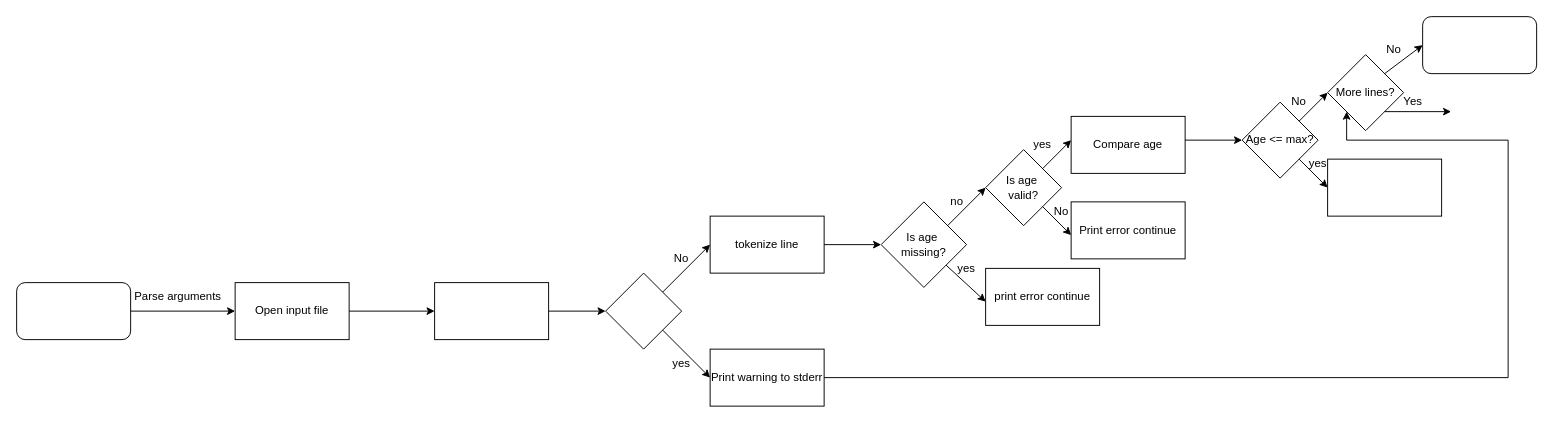
Image size: 1553x423. Some labels were removed from this diagram. The shapes that lost their labels are listed below. From the top down, each one's centre as x and y in pixels, then its label:
At [1479,45]: "End".
At [1384,187]: "Print to ostream".
At [73,311]: "Start".
At [491,311]: "Read line from istream".
At [643,310]: "Is line blank?".
